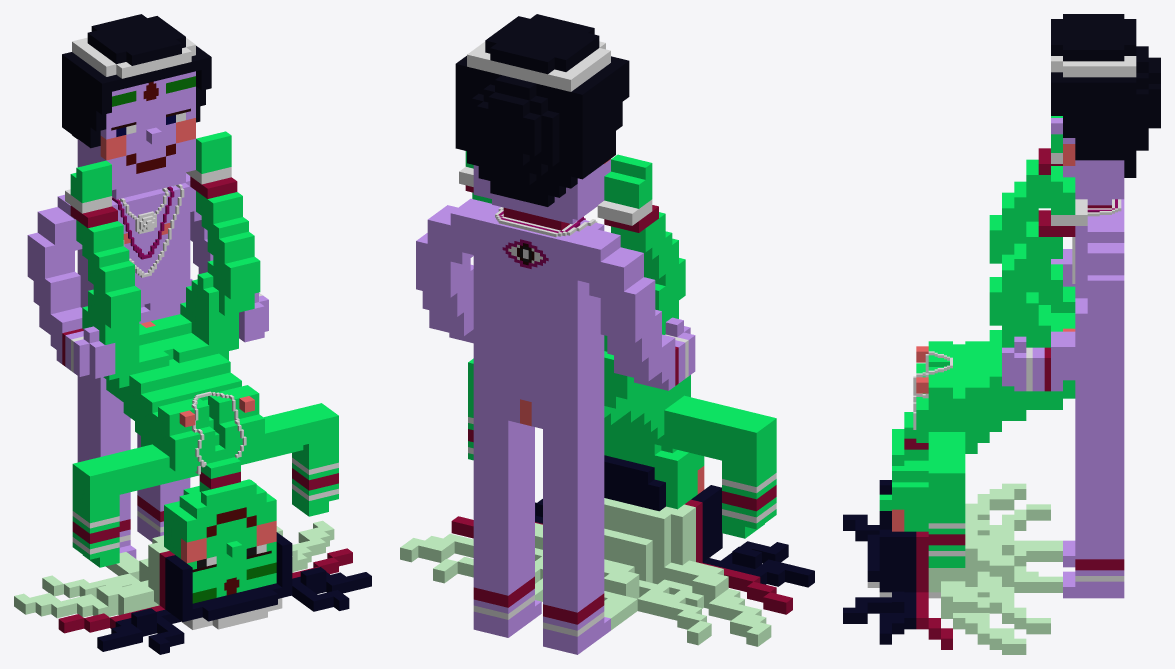
Rendered from kama82.glb.
3 renders of one model, left to right at view 1: azimuth 30°, elevation 25°; view 2: azimuth 150°, elevation 25°; view 3: azimuth 270°, elevation 25°, orthographic. The views are drawn at different scales.
Parts seen in each view (by area): view 1: Node; view 2: Node; view 3: Node.
Part boxes in pixels (<box>): Node: <box>14,14,371,654</box>; Node: <box>400,14,814,654</box>; Node: <box>843,14,1160,654</box>.
Bounding box in the file's own units: 12.4 × 19.6 × 10.4.
Materials: 1 (1 with a texture image).
